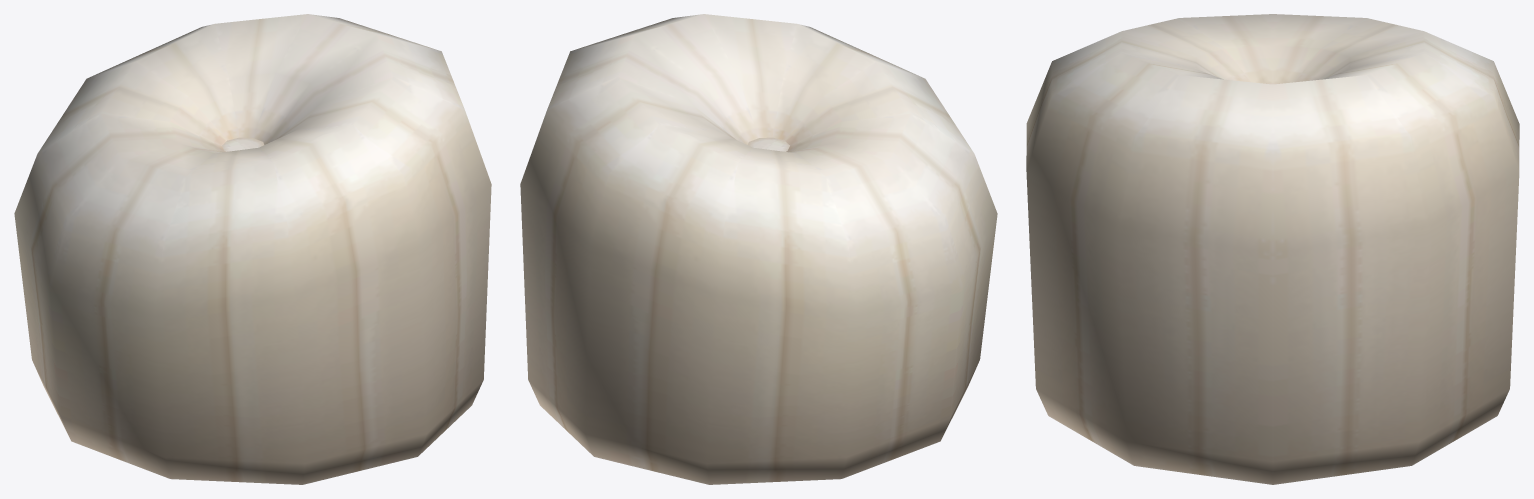
The model's file is my_shoppingmall_01_chair_01.glb.
The picture shows the model from 3 angles, left to right: view 1: azimuth 30°, elevation 25°; view 2: azimuth 150°, elevation 25°; view 3: azimuth 270°, elevation 25°; orthographic projection. The views are drawn at different scales.
Visible parts, largest first — view 1: my_shoppingmall_01_chair_01; view 2: my_shoppingmall_01_chair_01; view 3: my_shoppingmall_01_chair_01.
Part boxes in pixels (x1,y1,x2,y2): my_shoppingmall_01_chair_01: [14, 14, 491, 484]; my_shoppingmall_01_chair_01: [520, 14, 997, 484]; my_shoppingmall_01_chair_01: [1026, 14, 1519, 484].
Bounding box in the file's own units: 0.0032 × 0.00244 × 0.00299.
Materials: 1 (1 with a texture image).
